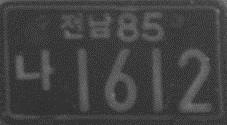1: (149, 44, 167, 116), (75, 47, 93, 114)
2: (177, 45, 215, 116)
5: (139, 10, 165, 43)
6: (104, 45, 139, 114)
8: (115, 11, 140, 43)
나: (14, 46, 53, 93)
전남_O: (58, 12, 112, 42)
